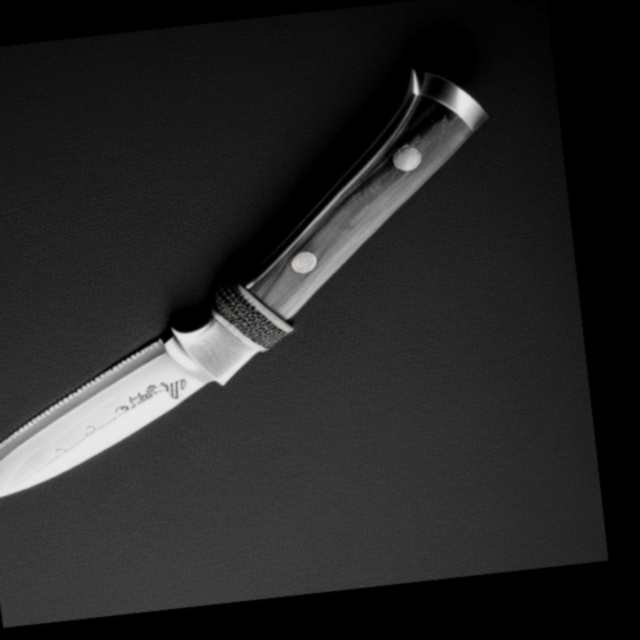Sharp-Object: (0, 23, 584, 583)
